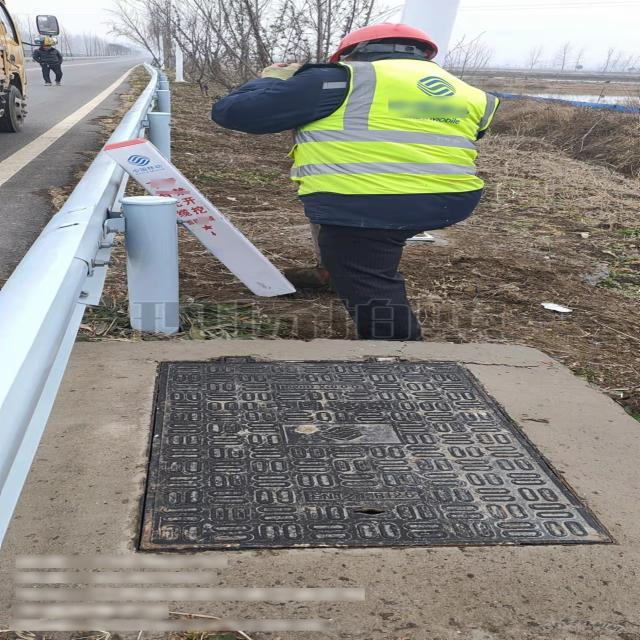Good: (135, 354, 620, 550)
